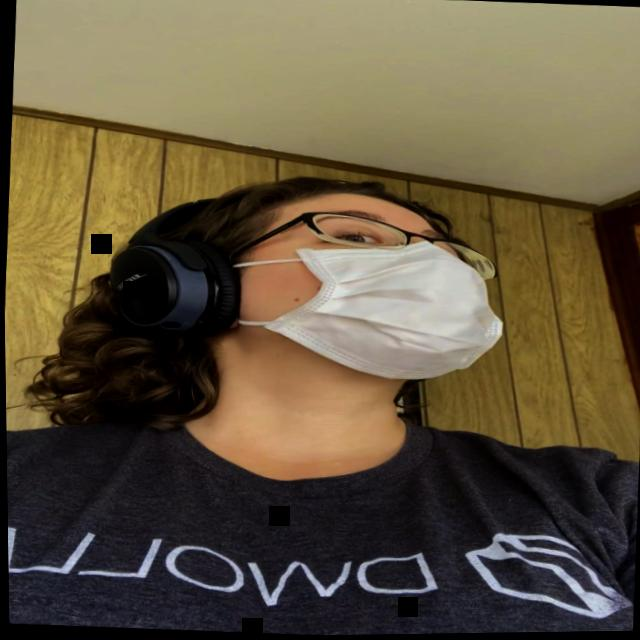Mask: (229, 184, 503, 389)
